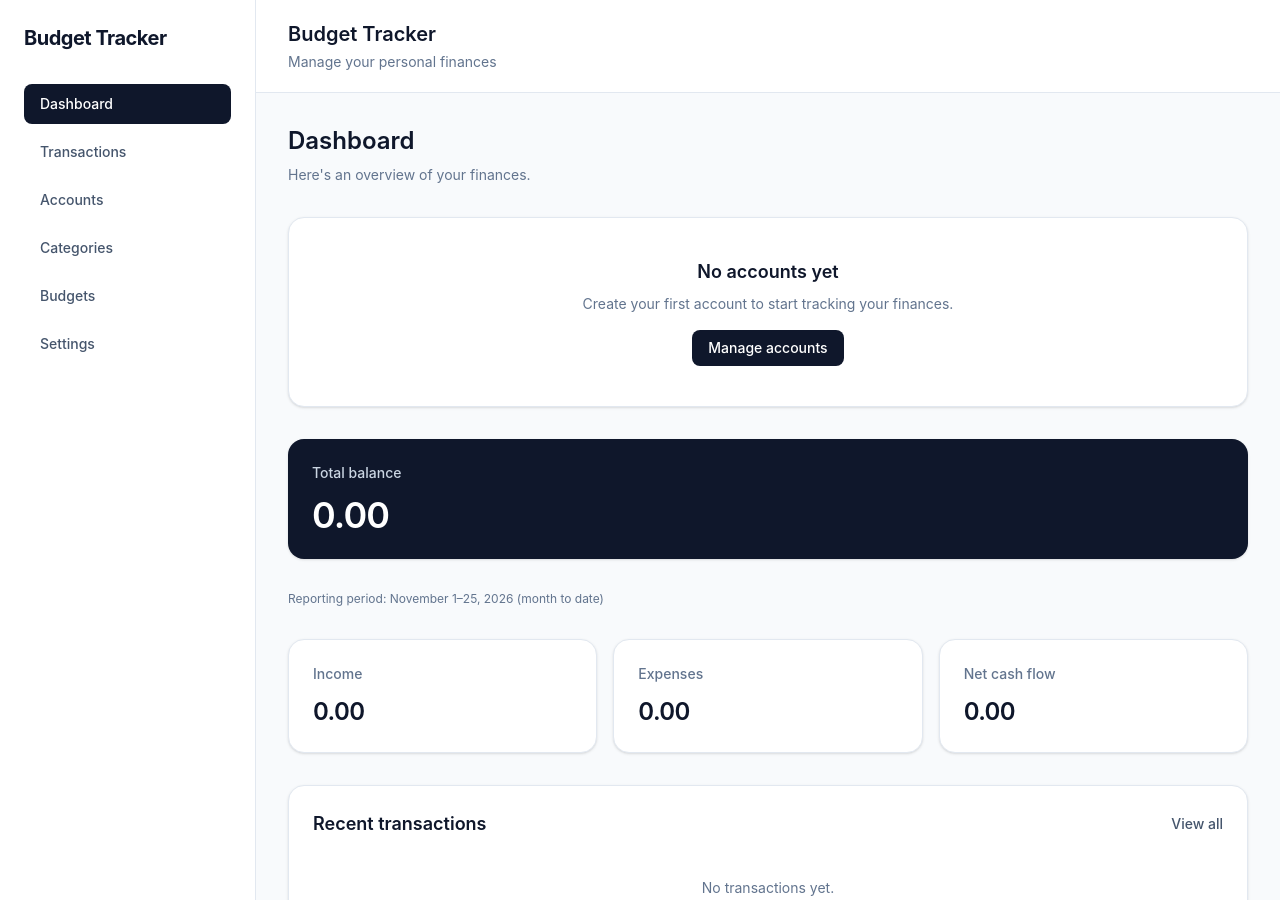
Test: App › displays loaded budgets on the Budgets page
Click the button "Budgets" at (128, 296), box [24,276,231,316]
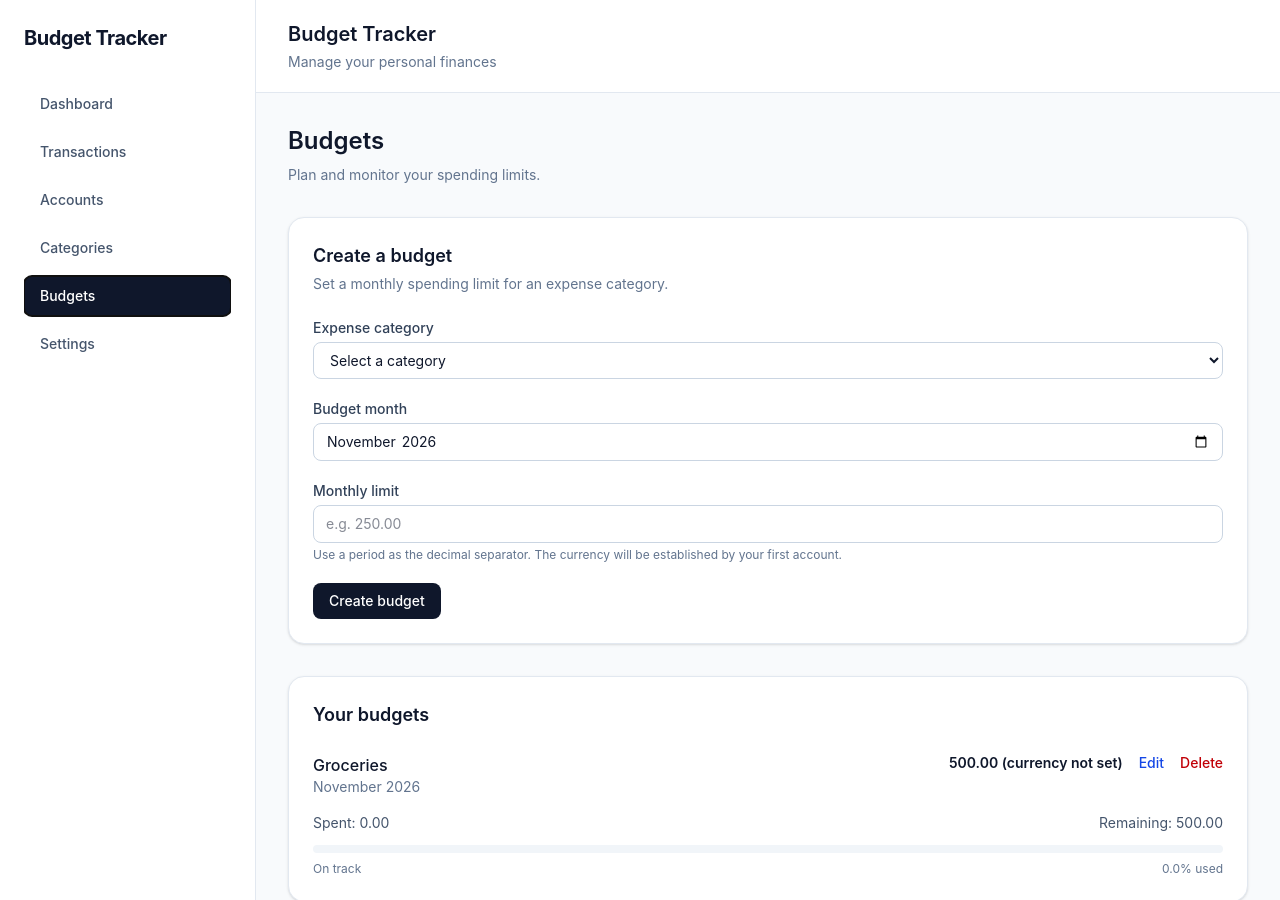
Check: the heading "Groceries" is shown, box [313,755,388,775]
Check: the text "November 2026" is shown, box [313,777,420,797]
Check: the text "500.00 (currency not set)" is shown, box [949,753,1123,773]
